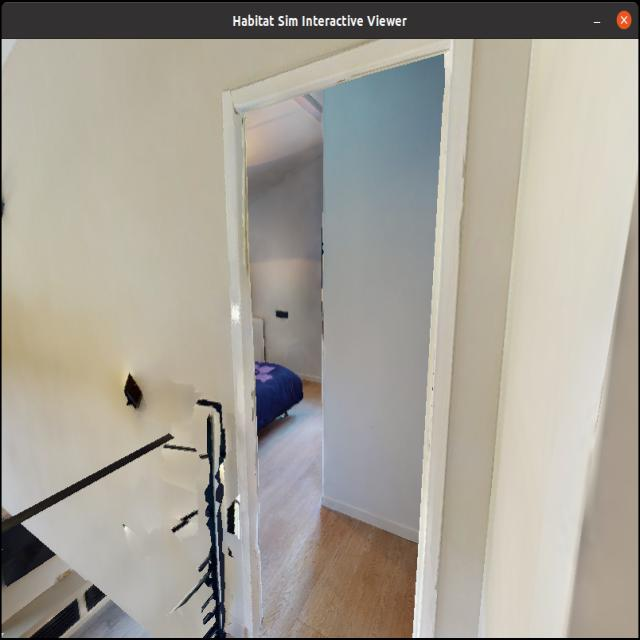door-frame: (222, 38, 467, 640)
